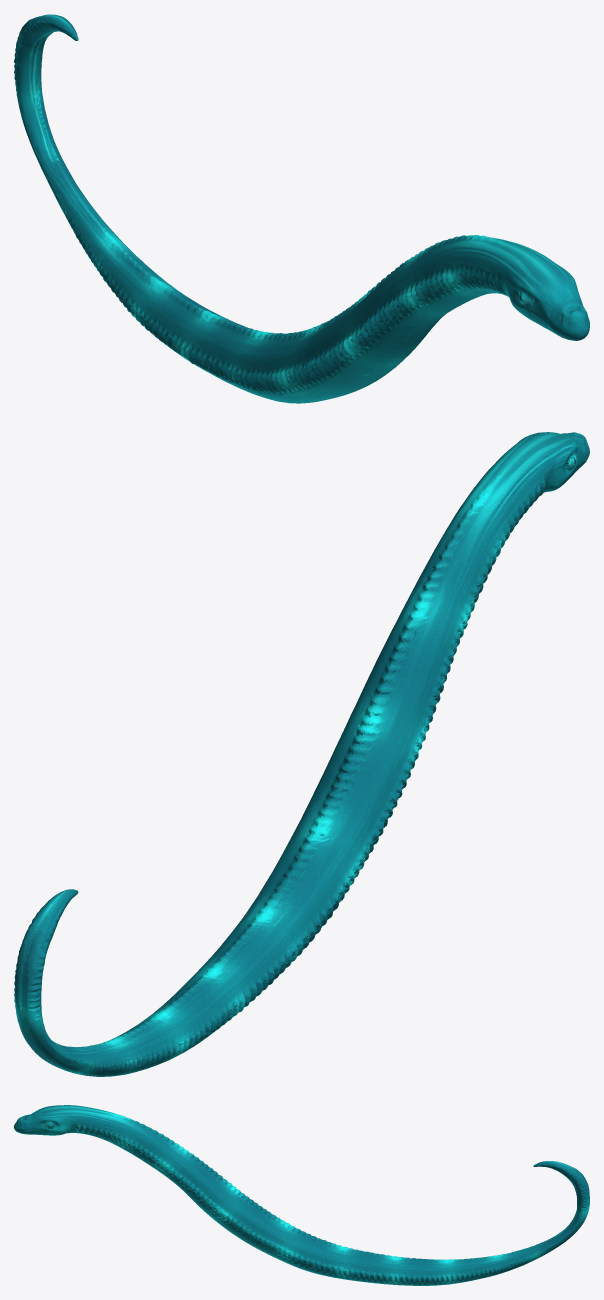
The model's file is lamp_eel.glb.
3 views of the same model, one above another, from view 1: azimuth 30°, elevation 25°; view 2: azimuth 150°, elevation 25°; view 3: azimuth 270°, elevation 25° (orthographic). The views are drawn at different scales.
Bounding box in the file's own units: 0.15 × 0.6451 × 1.9.
1 material, 1 textured.
